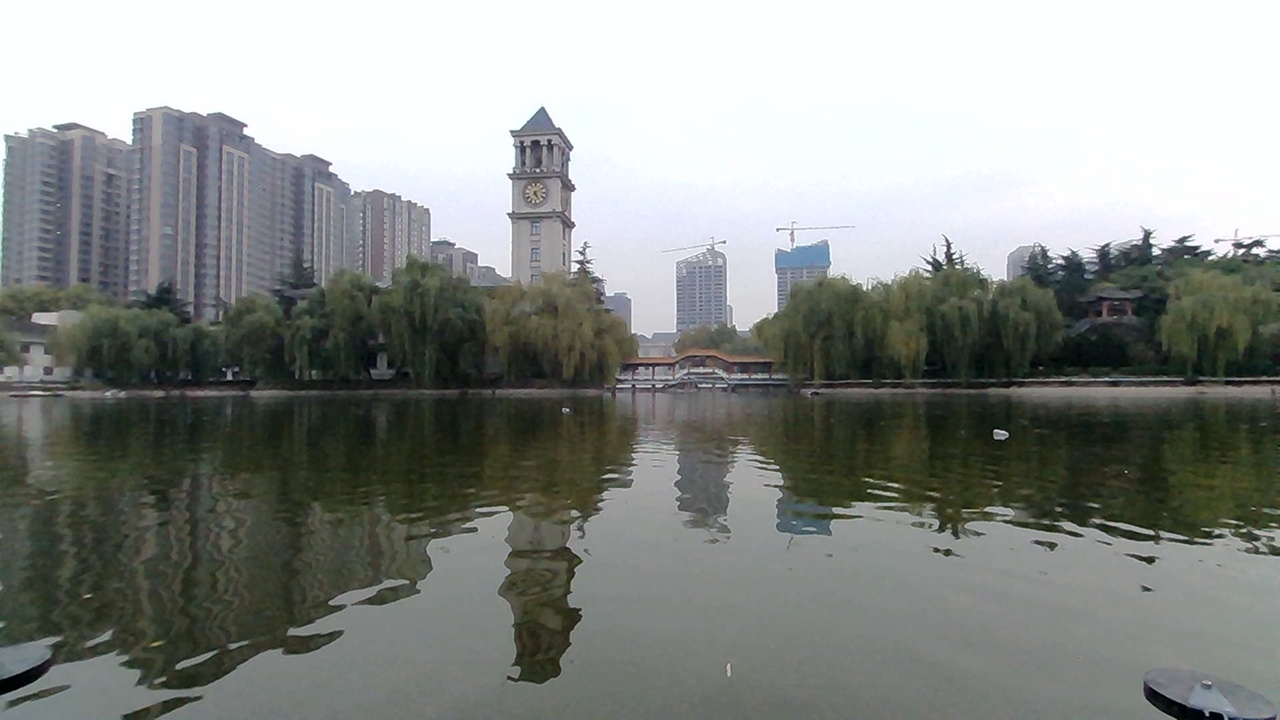bottle: (979, 422, 1011, 443)
